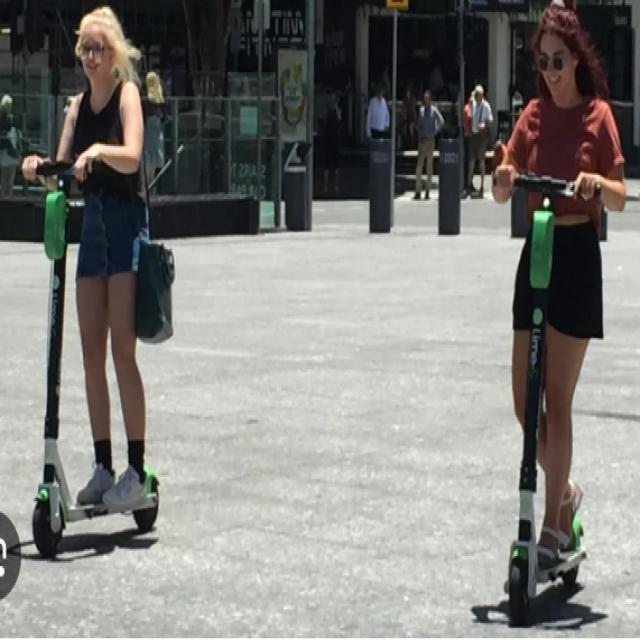non-helmet: (471, 1, 638, 610), (23, 9, 187, 569)
